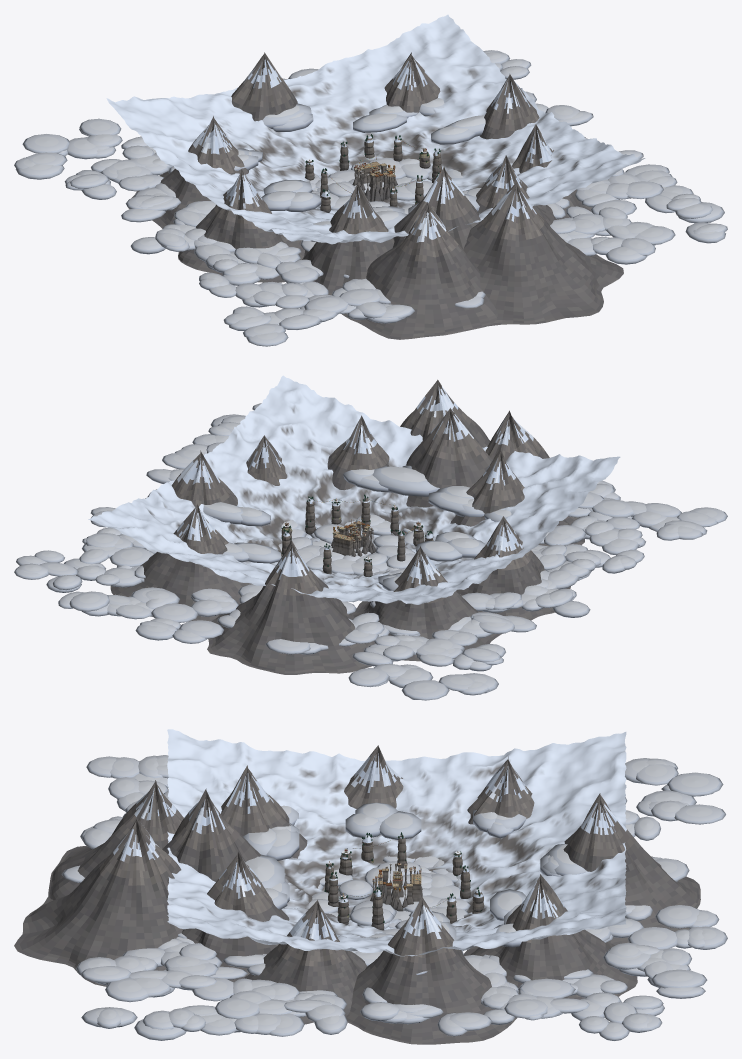
File: SanctuaryHimalaya.fbx
3 renders of one model, top to bottom at view 1: azimuth 30°, elevation 25°; view 2: azimuth 150°, elevation 25°; view 3: azimuth 270°, elevation 25°, orthographic. The views are drawn at different scales.
Visible parts, largest first — view 1: Backdrop Peaks, Cloud Sea, Mountain Floor, Backdrop Spires; view 2: Cloud Sea, Backdrop Peaks, Mountain Floor, Backdrop Spires; view 3: Backdrop Peaks, Cloud Sea, Mountain Floor, Backdrop Spires, West Crossing.
Boxes of the visible parts, <box> form: Backdrop Peaks: <box>128,52,623,339</box>; Cloud Sea: <box>14,50,727,346</box>; Mountain Floor: <box>106,14,645,244</box>; Backdrop Spires: <box>305,134,441,212</box>; Cloud Sea: <box>14,403,727,700</box>; Backdrop Peaks: <box>110,379,584,674</box>; Mountain Floor: <box>88,375,620,604</box>; Backdrop Spires: <box>281,494,433,576</box>; Backdrop Peaks: <box>14,745,700,1044</box>; Cloud Sea: <box>61,755,727,1040</box>; Mountain Floor: <box>167,729,626,956</box>; Backdrop Spires: <box>324,832,484,930</box>; West Crossing: <box>383,882,413,911</box>.
Size of the model in its own units: 1051 by 212 by 1124.
